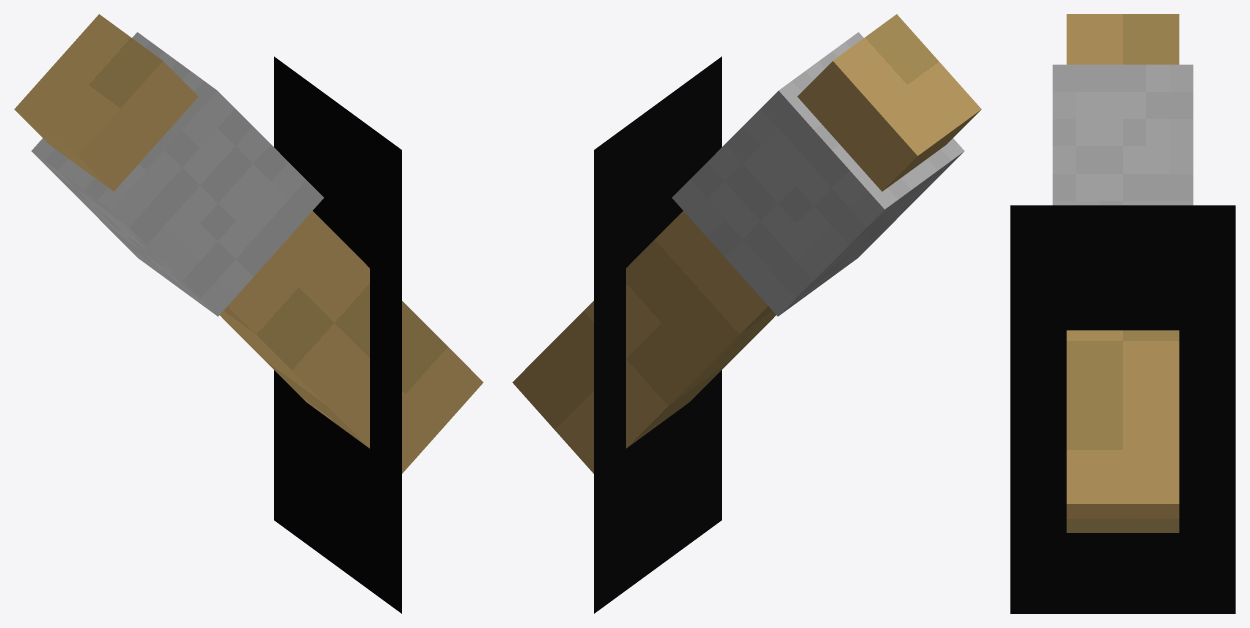
File: lever_wall.fbx
3 views of the same model, side by side, from view 1: azimuth 30°, elevation 25°; view 2: azimuth 150°, elevation 25°; view 3: azimuth 270°, elevation 25° (orthographic). The views are drawn at different scales.
Parts seen in each view (by area): view 1: cube_1, cube, cube_2; view 2: cube_1, cube, cube_2; view 3: cube, cube_1, cube_2.
Part boxes in pixels (x1=…): cube_1: x1=14, y1=14, x2=483, y2=473; cube: x1=274, y1=56, x2=401, y2=613; cube_2: x1=31, y1=32, x2=323, y2=316; cube_1: x1=512, y1=14, x2=981, y2=473; cube: x1=594, y1=56, x2=721, y2=613; cube_2: x1=672, y1=32, x2=964, y2=316; cube: x1=1010, y1=205, x2=1235, y2=613; cube_1: x1=1066, y1=14, x2=1179, y2=532; cube_2: x1=1052, y1=64, x2=1193, y2=205.
Bounding box in the file's own units: 45.73 × 62.53 × 25.
Materials: 2 (2 with a texture image).
